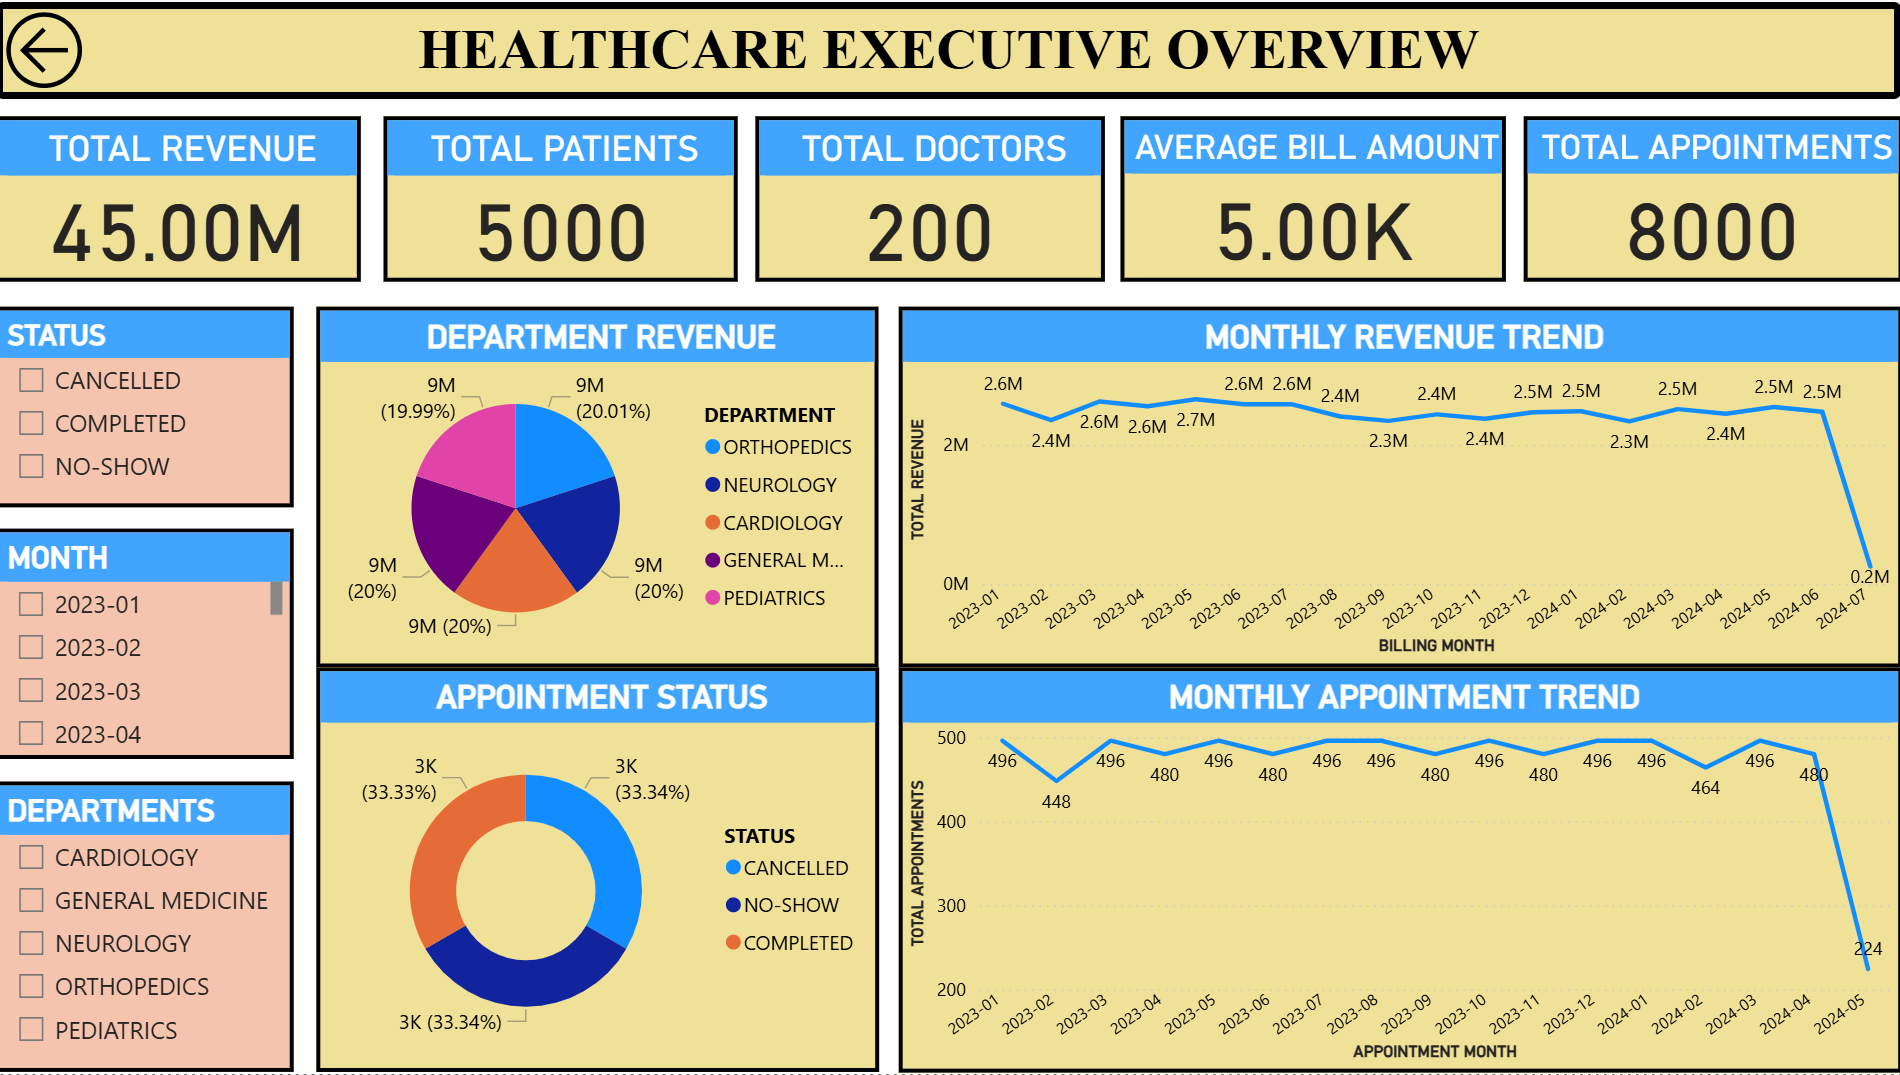

Layout of this report page (visuals, bound fields, positions):
{"tool":"powerbi","page":{"name":"EXECUTIVE OVERVIEW","canvas":[1280,720],"ordinal":1},"visuals":[{"type":"card","title":"TOTAL PATIENTS","fields":{"Values":["Sum(TOTAL PATIENTS.TOTAL_PATIENTS)"]},"box":[260.3,76.7,237.8,111.4],"z":0},{"type":"card","title":"TOTAL REVENUE","fields":{"Values":["Sum(TOTAL REVENUE.TOTAL_REVENUE)"]},"box":[0,76.7,245.3,111.4],"z":1000},{"type":"card","title":"TOTAL APPOINTMENTS","fields":{"Values":["Sum(TOTAL_APPOINTMENTS.TOTAL_APPOINTMENTS)"]},"box":[1026.3,76.7,254.3,111.4],"z":2000},{"type":"card","title":"TOTAL DOCTORS","fields":{"Values":["Sum(TOTAL_DOCTORS.TOTAL_DOCTORS)"]},"box":[510.1,76.7,234.8,111.4],"z":3000},{"type":"card","title":"AVERAGE BILL AMOUNT","fields":{"Values":["Sum(AVERAGE BILL AMOUNT.AVERAGE_BILL_AMOUNT)"]},"box":[755.4,76.7,258.8,111.4],"z":4000},{"type":"lineChart","title":"MONTHLY APPOINTMENT TREND","fields":{"Y":["Sum(MONTHLY APPOINTMENTS.TOTAL_APPOINTMENTS)"],"Category":["MONTHLY APPOINTMENTS.APPOINTMENT_MONTH"]},"box":[606.4,446.9,674.2,272.4],"z":5000},{"type":"lineChart","title":"MONTHLY REVENUE TREND","fields":{"Category":["MONTHLY REVENUE.BILLING_MONTH"],"Y":["Sum(MONTHLY REVENUE.TOTAL_REVENUE)"]},"box":[606.4,204.7,674.2,242.3],"z":6000},{"type":"donutChart","title":"APPOINTMENT STATUS","fields":{"Category":["APPOINTMENT STATUS.STATUS"],"Y":["Sum(APPOINTMENT STATUS.TOTAL_APPOINTMENTS)"]},"box":[215,446.7,378.3,271.7],"z":7000},{"type":"pieChart","title":" DEPARTMENT REVENUE ","fields":{"Category":["Query2.DEPARTMENT"],"Y":["Sum(Query2.TOTAL_REVENUE)"]},"box":[215.2,204.7,377.7,242.3],"z":8000},{"type":"slicer","title":"DEPARTMENTS","fields":{"Values":["DEPARTMENT REVENUE.DEPARTMENT"]},"box":[0,523.3,200,195],"z":9000},{"type":"slicer","title":"MONTH","fields":{"Values":["MONTHLY REVENUE.BILLING_MONTH"]},"box":[0,353.3,200,155],"z":10000},{"type":"slicer","title":"STATUS","fields":{"Values":["APPOINTMENT STATUS.STATUS"]},"box":[0,205,200,135],"z":11000},{"type":"textbox","box":[0,0,1280,65],"z":12000},{"type":"actionButton","box":[0,0,84.3,64.7],"z":13000}]}

Visuals, with their boxes in screenshot pixels (x1, y1, x2, y2), scaled from the page's 1280x720 canvas onto the 1900x1075 screenshot:
"TOTAL PATIENTS" card: (386,115,739,281)
"TOTAL REVENUE" card: (0,115,364,281)
"TOTAL APPOINTMENTS" card: (1523,115,1899,281)
"TOTAL DOCTORS" card: (757,115,1106,281)
"AVERAGE BILL AMOUNT" card: (1121,115,1505,281)
"MONTHLY APPOINTMENT TREND" lineChart: (900,667,1899,1074)
"MONTHLY REVENUE TREND" lineChart: (900,306,1899,667)
"APPOINTMENT STATUS" donutChart: (319,667,881,1073)
" DEPARTMENT REVENUE " pieChart: (319,306,880,667)
"DEPARTMENTS" slicer: (0,781,297,1072)
"MONTH" slicer: (0,527,297,759)
"STATUS" slicer: (0,306,297,508)
textbox: (0,0,1899,97)
actionButton: (0,0,125,97)
